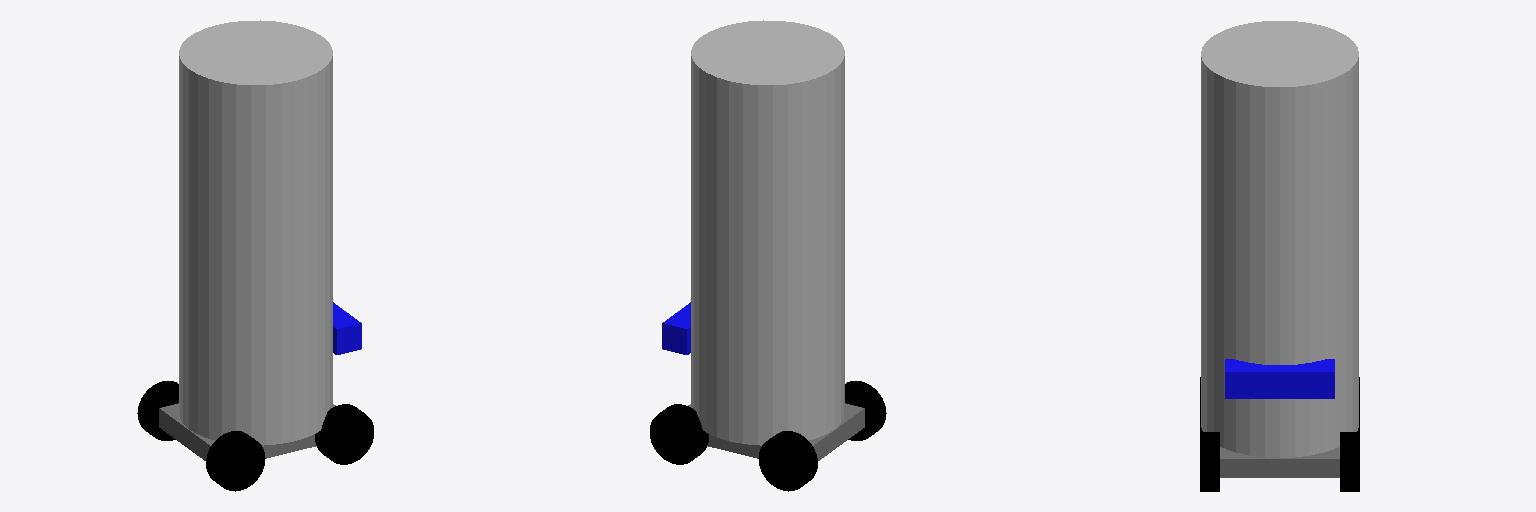
robot.urdf — efim:
<?xml version="1.0"?>
<robot name="efim">

  <link name="base_link">
    <visual>
      <geometry>
        <box size="0.41148 0.30988 0.05588"/> 
      </geometry>
      <material name="grey">
	<color rgba="0.5 0.5 0.5 1"/>
      </material>
    </visual>
    <collision>
      <geometry>
        <box size="0.41148 0.30988 0.05588"/> 
      </geometry>
    </collision>
   <inertial>
      <mass value="16.0"/>
      <inertia ixx="1.0" iyy="1.0" izz="1.0"
               ixy="0" ixz="0" iyz="0"/>
    </inertial>
  </link>

  <gazebo reference="base_link">
    <material>Gazebo/Black</material>
  </gazebo>

  <link name="body_link">
    <visual>
      <geometry>
        <cylinder length="1.04775" radius="0.2032"/>
      </geometry>
      <material name="clear">
        <color rgba="0.75 0.75 0.75 0.4"/>
      </material>
    </visual>
    <collision>
      <geometry>
        <cylinder length="1.04775" radius="0.2032"/>
      </geometry>
    </collision>
    <inertial>
      <mass value="12.0"/>
      <inertia ixx="1.0" iyy="1.0" izz="1.0"
               ixy="0" ixz="0" iyz="0"/>
    </inertial>
  </link>

  <joint name="center_joint" type="fixed">
    <axis xyz="0 0 1"/>
    <parent link="base_link"/>
    <child link="body_link"/>
    <origin rpy="0 0 0" xyz="0 0 0.551815"/>
  </joint>

  <link name="laser_link">
    <visual>
      <geometry>
        <box size="0.0762 0.2794 0.0762"/> 
      </geometry>
      <material name="blue">
	<color rgba="0.1 0.1 1 1"/>
      </material>
    </visual>
    <collision>
      <geometry>
        <box size="0.0762 0.2794 0.0762"/> 
      </geometry>
    </collision>
   <inertial>
      <mass value="0.25"/>
      <inertia ixx="1.0" iyy="1.0" izz="1.0"
               ixy="0" ixz="0" iyz="0"/>
    </inertial>
  </link>

  <gazebo reference="laser_link">
    <material>Gazebo/Blue</material>
    <sensor type="gpu_ray" name="hokuyo">
      <pose>0 0 0 0 0 0</pose>
      <visualize>true</visualize>
      <update_rate>40</update_rate>
      <ray>
        <scan>
          <horizontal>
            <samples>720</samples>
            <resolution>1</resolution>
            <min_angle>-1.570796</min_angle>
            <max_angle>1.570796</max_angle>
          </horizontal>
        </scan>
        <range>
          <min>0.10</min>
          <max>30.0</max>
          <resolution>0.01</resolution>
        </range>
      </ray>
      <plugin name="gpu_laser" filename="libgazebo_ros_gpu_laser.so">
        <topicName>/scan</topicName>
        <frameName>laser_link</frameName>
      </plugin>
    </sensor>
  </gazebo>

  <joint name="laser_joint" type="fixed">
    <axis xyz="0 0 1"/>
    <parent link="body_link"/>
    <child link="laser_link"/>
    <origin rpy="0 0 0" xyz="0.2032 0 -0.3"/>
  </joint>  

  <link name="hitch_front_link">
    <visual>
      <geometry>
        <cylinder length="0.1524" radius="0.01"/>
      </geometry>
      <material name="silver">
	<color rgba="0.75 0.75 0.75 1"/>
      </material>
    </visual>
    <collision>
      <geometry>
        <cylinder length="0.1524" radius="0.01"/>
      </geometry>
    </collision>
    <inertial>
      <mass value="0.1"/>
      <inertia ixx="1.0" iyy="1.0" izz="1.0"
               ixy="0" ixz="0" iyz="0"/>
    </inertial>
  </link>

  <joint name="hitch_joint" type="fixed">
    <axis xyz="0 0 1"/>
    <parent link="base_link"/>
    <child link="hitch_front_link"/>
    <origin rpy="0 0 0" xyz="0.18 0 0.0762"/>
  </joint>

  <link name="wheel_front_left">
    <visual>
      <geometry>
        <cylinder length="0.0508" radius="0.0762"/>
      </geometry>
      <material name="black">
        <color rgba="0 0 0 1"/>
      </material>
    </visual>
    <collision>
      <geometry>
        <cylinder length="0.0508" radius="0.0762"/>
      </geometry>
    </collision>
    <inertial>
      <mass value="0.1"/>
      <inertia ixx="1.0" iyy="1.0" izz="1.0"
               ixy="0" ixz="0" iyz="0"/>
    </inertial>
  </link>

  <joint name="axis_front_left" type="continuous">
    <axis xyz="0 0 1"/>
    <parent link="base_link"/>
    <child link="wheel_front_left"/>
    <origin rpy="-1.5708 0 0" xyz="0.165862 0.18034 0"/>
  </joint>

 <link name="wheel_front_right">
    <visual>
      <geometry>
        <cylinder length="0.0508" radius="0.0762"/>
      </geometry>
      <material name="black"/>
    </visual>
    <collision>
      <geometry>
        <cylinder length="0.0508" radius="0.0762"/>
      </geometry>
    </collision>
    <inertial>
      <mass value="0.1"/>
      <inertia ixx="1.0" iyy="1.0" izz="1.0"
               ixy="0" ixz="0" iyz="0"/>
    </inertial>
  </link>

  <joint name="axis_front_right" type="continuous">
    <axis xyz="0 0 1"/>
    <parent link="base_link"/>
    <child link="wheel_front_right"/>
    <origin rpy="-1.5708 0 0" xyz="0.165862 -0.18034 0"/>
  </joint>

  <link name="wheel_rear_right">
    <visual>
      <geometry>
        <cylinder length="0.0508" radius="0.0762"/>
      </geometry>
      <material name="black"/>
    </visual>
    <collision>
      <geometry>
        <cylinder length="0.0508" radius="0.0762"/>
      </geometry>
    </collision>
    <inertial>
      <mass value="0.1"/>
      <inertia ixx="1.0" iyy="1.0" izz="1.0"
               ixy="0" ixz="0" iyz="0"/>
    </inertial>
  </link>

  <joint name="axis_rear_right" type="continuous">
    <axis xyz="0 0 1"/>
    <parent link="base_link"/>
    <child link="wheel_rear_right"/>
    <origin rpy="-1.5708 0 0" xyz="-0.165862 -0.18034 0"/>
  </joint>

  <link name="wheel_rear_left">
    <visual>
      <geometry>
        <cylinder length="0.0508" radius="0.0762"/>
      </geometry>
      <material name="black"/>
    </visual>
    <collision>
      <geometry>
        <cylinder length="0.0508" radius="0.0762"/>
      </geometry>
    </collision>
    <inertial>
      <mass value="0.1"/>
      <inertia ixx="1.0" iyy="1.0" izz="1.0"
               ixy="0" ixz="0" iyz="0"/>
    </inertial>
    <gazebo reference="wheel_rear_left">
      <material>Gazebo/Black</material>
    </gazebo>
  </link>

  <joint name="axis_rear_left" type="continuous">
    <axis xyz="0 0 1"/>
    <parent link="base_link"/>
    <child link="wheel_rear_left"/>
    <origin rpy="-1.5708 0 0" xyz="-0.165862 0.18034 0"/>
  </joint>

<gazebo>
  <plugin name="skid_steer_drive_controller" filename="libgazebo_ros_skid_steer_drive.so">
    <updateRate>100.0</updateRate>
    <robotNamespace>/</robotNamespace>
    <leftFrontJoint>axis_front_left</leftFrontJoint>
    <rightFrontJoint>axis_front_right</rightFrontJoint>
    <leftRearJoint>axis_rear_left</leftRearJoint>
    <rightRearJoint>axis_rear_right</rightRearJoint>
    <wheelSeparation>0.254</wheelSeparation>
    <wheelDiameter>0.1524</wheelDiameter>
    <robotBaseFrame>base_link</robotBaseFrame>
    <torque>10</torque>
    <commandTopic>cmd_vel</commandTopic>
    <broadcastTF>1</broadcastTF>
  </plugin>
  <plugin name="joint_state_publisher" filename="libgazebo_ros_joint_state_publisher.so">
    <jointName>axis_front_left, axis_front_right, axis_rear_left, axis_rear_right</jointName>
  </plugin>
</gazebo>
</robot>

--- Facts derived from the render (not from the file) ---
The picture shows the robot from 3 angles, left to right: view 1: azimuth 30°, elevation 25°; view 2: azimuth 150°, elevation 25°; view 3: azimuth 270°, elevation 25°; orthographic projection.
Model efim with 8 links and 7 joints (4 continuous, 3 fixed), rooted at base_link, posed all joints at 0.
Visible links, largest first — view 1: body_link, wheel_rear_right, wheel_front_right, base_link, wheel_rear_left, laser_link; view 2: body_link, wheel_rear_left, wheel_front_left, base_link, wheel_rear_right, laser_link; view 3: body_link, laser_link, base_link, wheel_front_left, wheel_front_right.
Link boxes in pixels (x1=…): body_link: x1=179, y1=20, x2=332, y2=445; wheel_rear_right: x1=206, y1=431, x2=265, y2=491; wheel_front_right: x1=315, y1=404, x2=373, y2=464; base_link: x1=159, y1=403, x2=335, y2=460; wheel_rear_left: x1=137, y1=381, x2=178, y2=440; laser_link: x1=333, y1=302, x2=361, y2=354; body_link: x1=691, y1=20, x2=844, y2=445; wheel_rear_left: x1=758, y1=431, x2=817, y2=491; wheel_front_left: x1=650, y1=404, x2=708, y2=464; base_link: x1=688, y1=403, x2=864, y2=460; wheel_rear_right: x1=845, y1=381, x2=886, y2=440; laser_link: x1=662, y1=302, x2=690, y2=354; body_link: x1=1201, y1=21, x2=1358, y2=457; laser_link: x1=1225, y1=359, x2=1334, y2=398; base_link: x1=1220, y1=447, x2=1339, y2=477; wheel_front_left: x1=1340, y1=432, x2=1359, y2=491; wheel_front_right: x1=1200, y1=432, x2=1219, y2=491.
Bounding box of the posed robot: 0.4841 × 0.4115 × 1.15 m (x, y, z).
Geometry: primitives only (box / cylinder / sphere), no mesh files.
